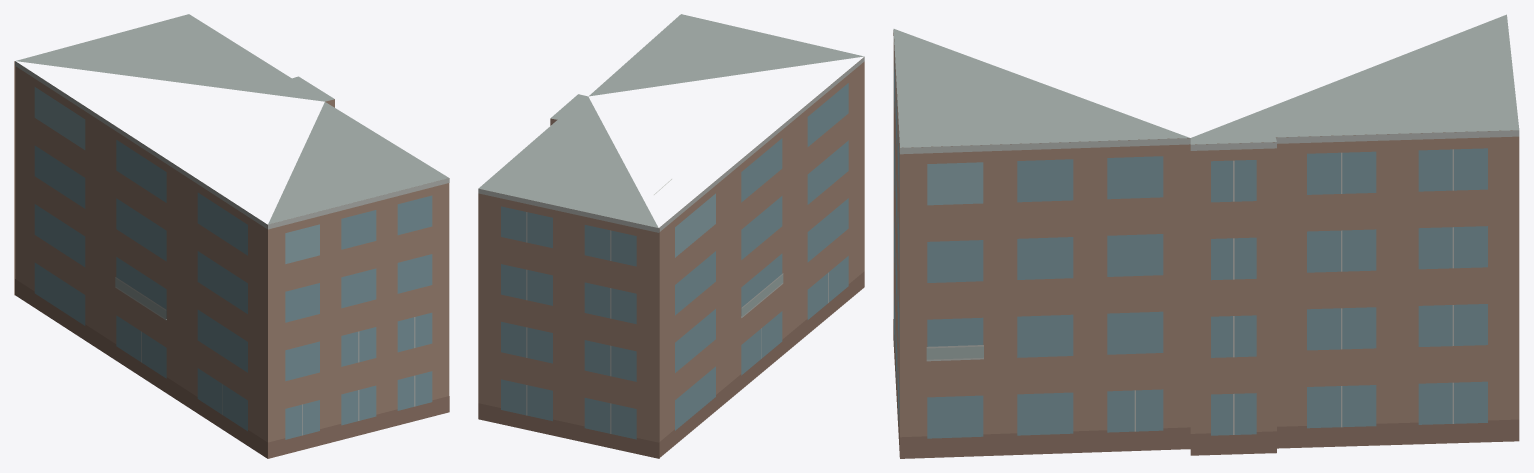
File: survey-upis-32703184.glb
3 renders of one model, left to right at view 1: azimuth 30°, elevation 25°; view 2: azimuth 150°, elevation 25°; view 3: azimuth 270°, elevation 25°, orthographic. The views are drawn at different scales.
Parts seen in each view (by area): view 1: survey-upis-32703184.tmp; view 2: survey-upis-32703184.tmp; view 3: survey-upis-32703184.tmp.
Boxes of the visible parts, x1,y1,x2,y2 form: survey-upis-32703184.tmp: (14, 14, 449, 458); survey-upis-32703184.tmp: (478, 14, 864, 458); survey-upis-32703184.tmp: (893, 14, 1519, 458).
Size of the model in its own units: 10.9 by 11.8 by 21.53.
